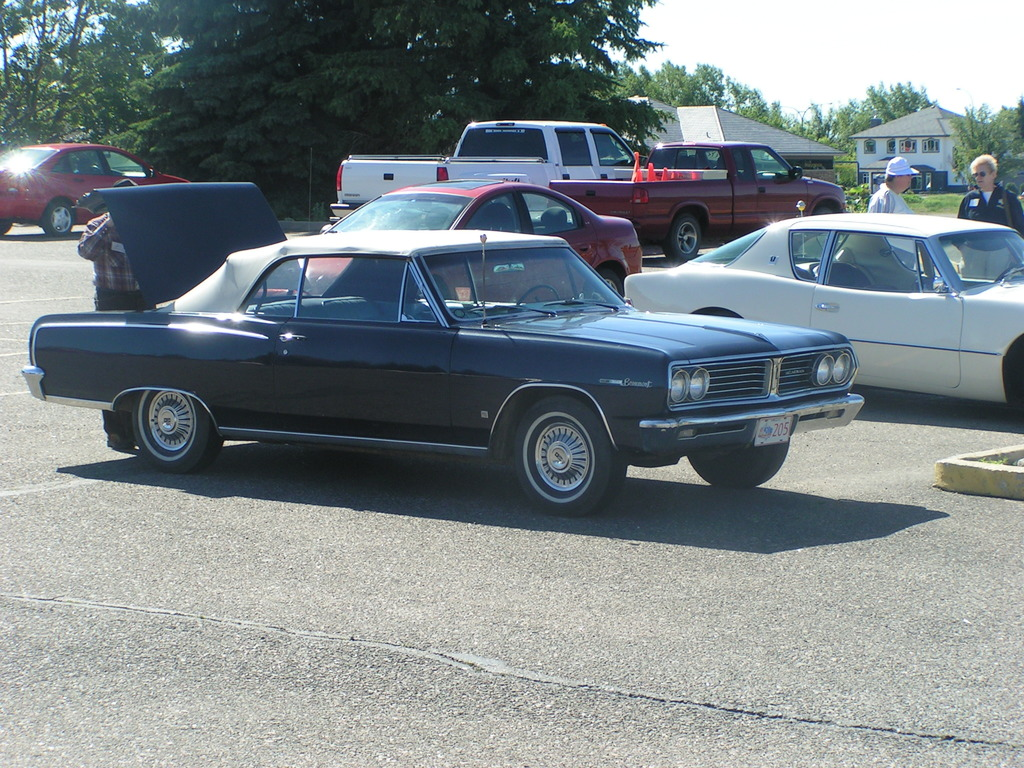Car: (34, 206, 874, 510), (625, 211, 1023, 414), (294, 172, 648, 303), (0, 140, 190, 242)
